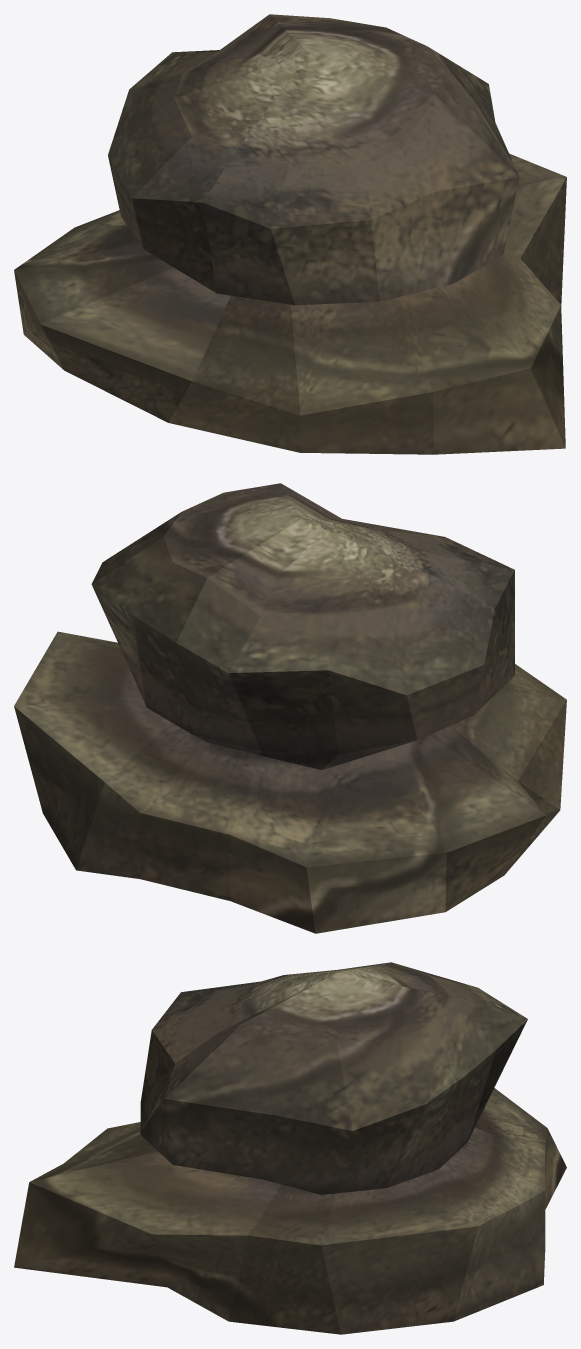
File: Steen 3.fbx
3 renders of one model, top to bottom at view 1: azimuth 30°, elevation 25°; view 2: azimuth 150°, elevation 25°; view 3: azimuth 270°, elevation 25°, orthographic. The views are drawn at different scales.
Parts seen in each view (by area): view 1: pCylinder1; view 2: pCylinder1; view 3: pCylinder1.
Boxes of the visible parts, x1,y1,x2,y2 form: pCylinder1: (14,14,566,454); pCylinder1: (14,483,566,933); pCylinder1: (14,962,566,1334).
Bounding box in the file's own units: 4.28 × 2.44 × 4.46.
